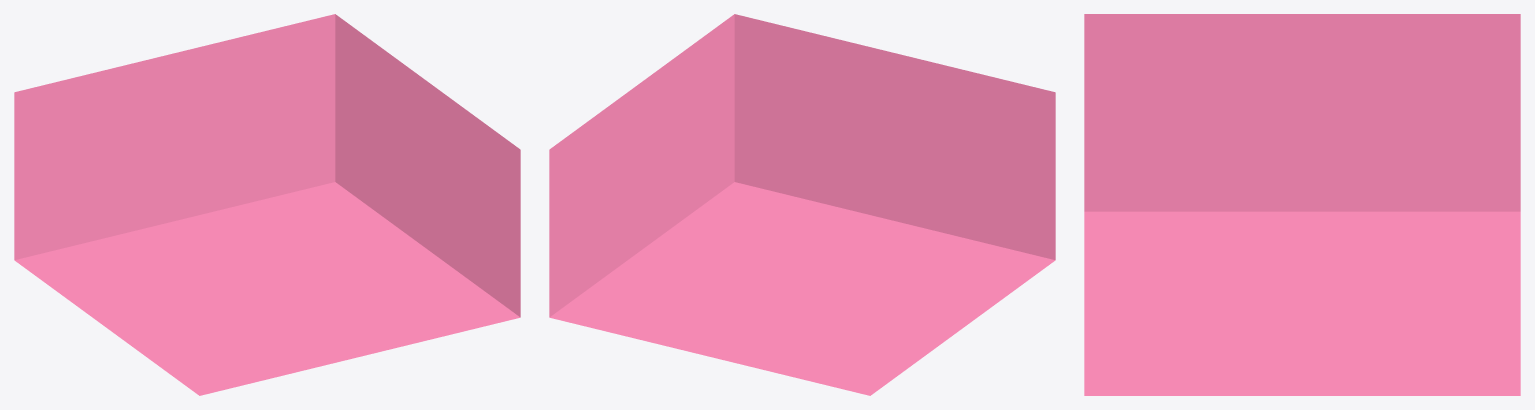
Rendered from stage-heart_pink.glb.
3 views of the same model, side by side, from view 1: azimuth 30°, elevation 25°; view 2: azimuth 150°, elevation 25°; view 3: azimuth 270°, elevation 25° (orthographic). The views are drawn at different scales.
Visible parts, largest first — view 1: Plane (×4); view 2: Plane (×4); view 3: Plane (×3).
Part boxes in pixels (left/top/right/bottom): Plane (×4): left=14, top=14, right=520, bottom=395; Plane (×4): left=549, top=14, right=1055, bottom=395; Plane (×3): left=1084, top=14, right=1520, bottom=395.
Size of the model in its own units: 20 by 10 by 20.
